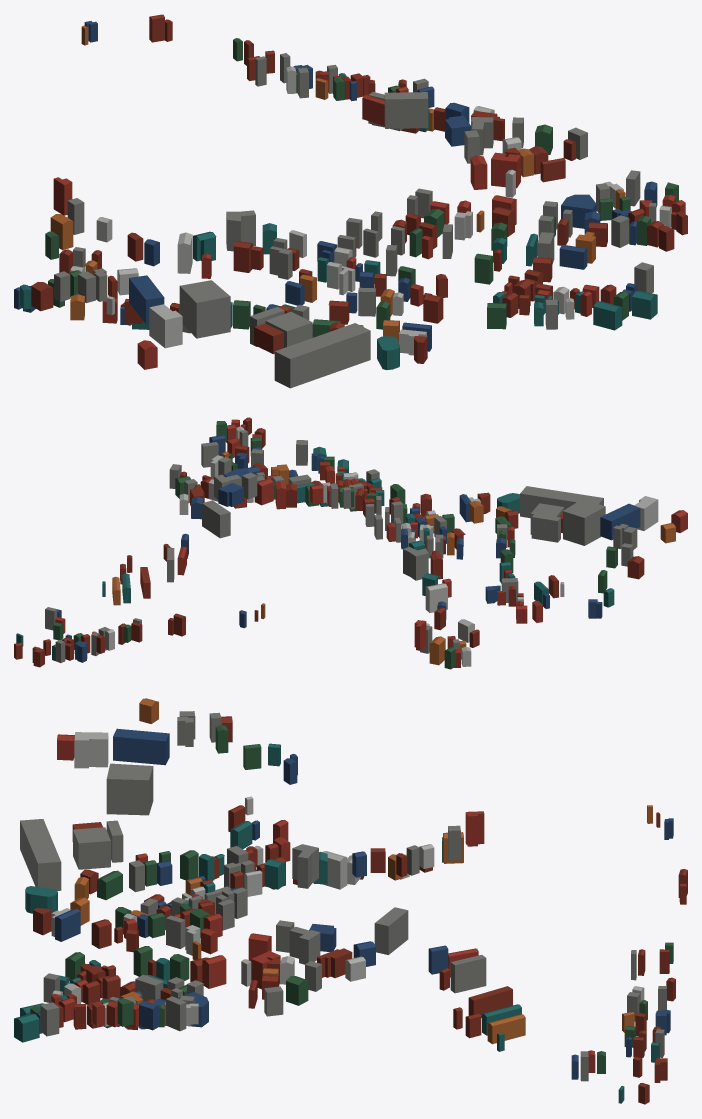
Rendered from near-16-54720-29728.711dceb5.glb.
3 renders of one model, top to bottom at view 1: azimuth 30°, elevation 25°; view 2: azimuth 150°, elevation 25°; view 3: azimuth 270°, elevation 25°, orthographic. The views are drawn at different scales.
Bounding box in the file's own units: 598 × 141 × 592.
